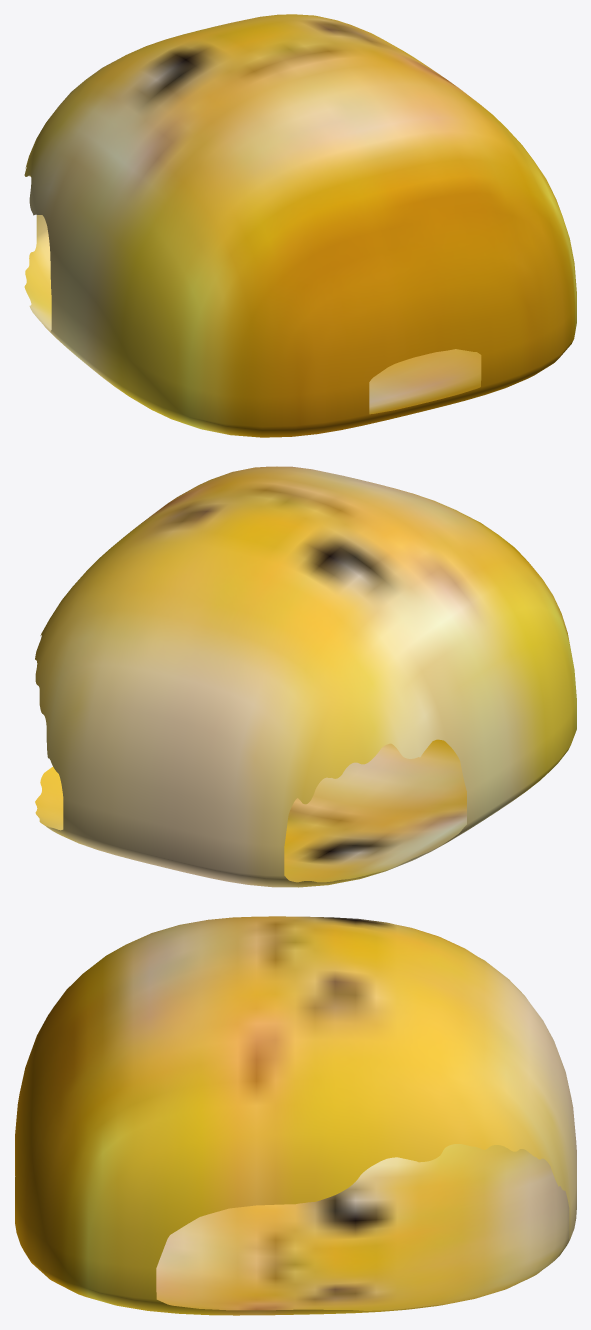
Rendered from T03_Yellow_WinkTiny.fbx.
3 renders of one model, top to bottom at view 1: azimuth 30°, elevation 25°; view 2: azimuth 150°, elevation 25°; view 3: azimuth 270°, elevation 25°, orthographic.
Visible parts, largest first — view 1: Catalog_T03_Yellow_WinkTiny; view 2: Catalog_T03_Yellow_WinkTiny; view 3: Catalog_T03_Yellow_WinkTiny.
Boxes of the visible parts, x1=… form: Catalog_T03_Yellow_WinkTiny: x1=24, y1=14, x2=576, y2=437; Catalog_T03_Yellow_WinkTiny: x1=35, y1=466, x2=576, y2=887; Catalog_T03_Yellow_WinkTiny: x1=15, y1=916, x2=576, y2=1315.
Size of the model in its own units: 0.675 by 0.4792 by 0.7589.
1 material, 1 textured.
